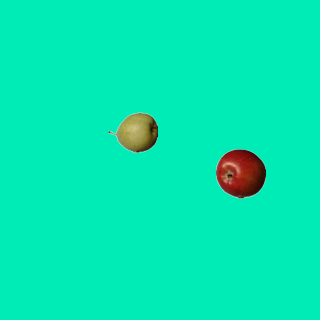Apple Braeburn: (215, 148, 265, 198)
Pear: (107, 107, 157, 157)
